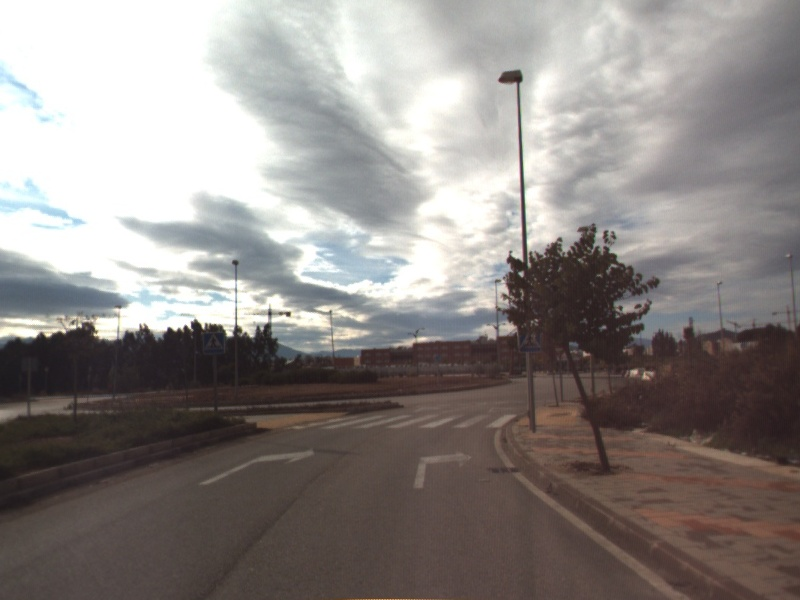RIGHT: (197, 445, 317, 487), (411, 446, 474, 490)
